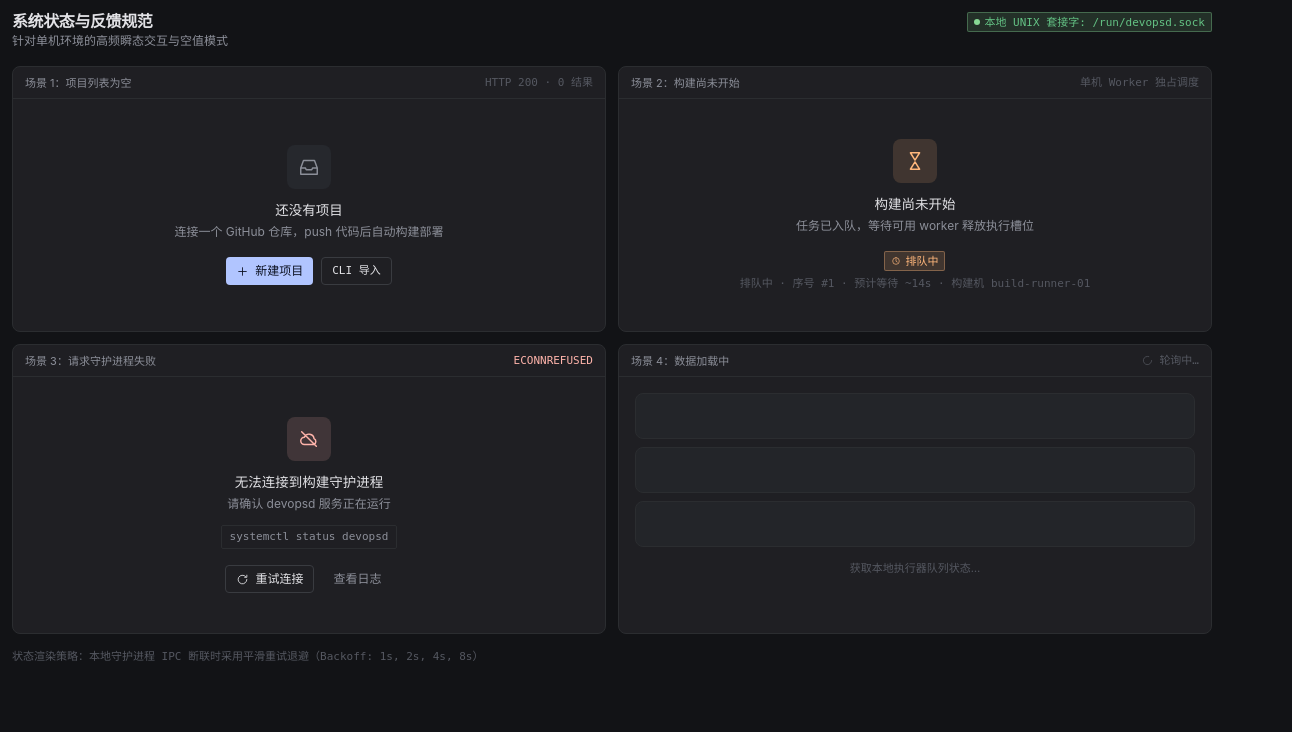
Test case: StatesDemoView（空态 / 排队 / 错误 / 加载） › 重试按钮点击后进入加载态
This screenshot has width=1292, height=732.
Click the button "重试连接". click: (270, 579)
box: [226,565,314,593]
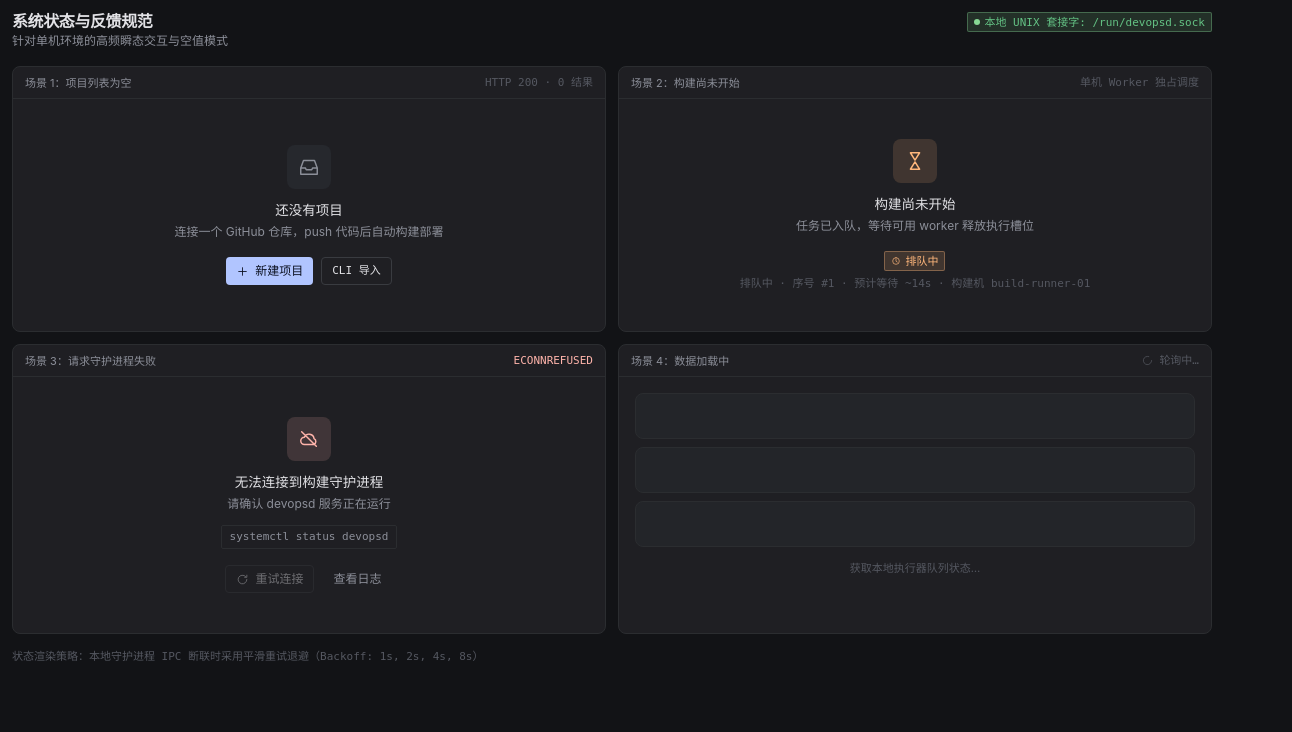
Expected: the button "重试连接" is disabled, [226,565,314,593]
